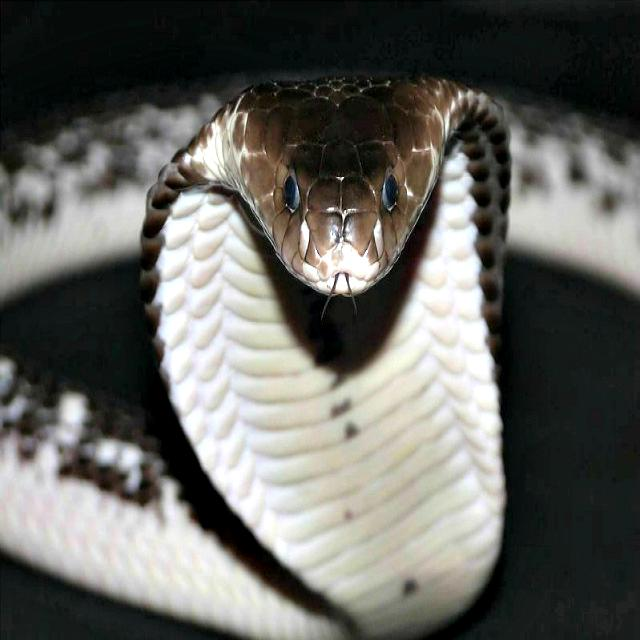Naja siamensis: (0, 79, 639, 638)
snake: (0, 79, 639, 638)
